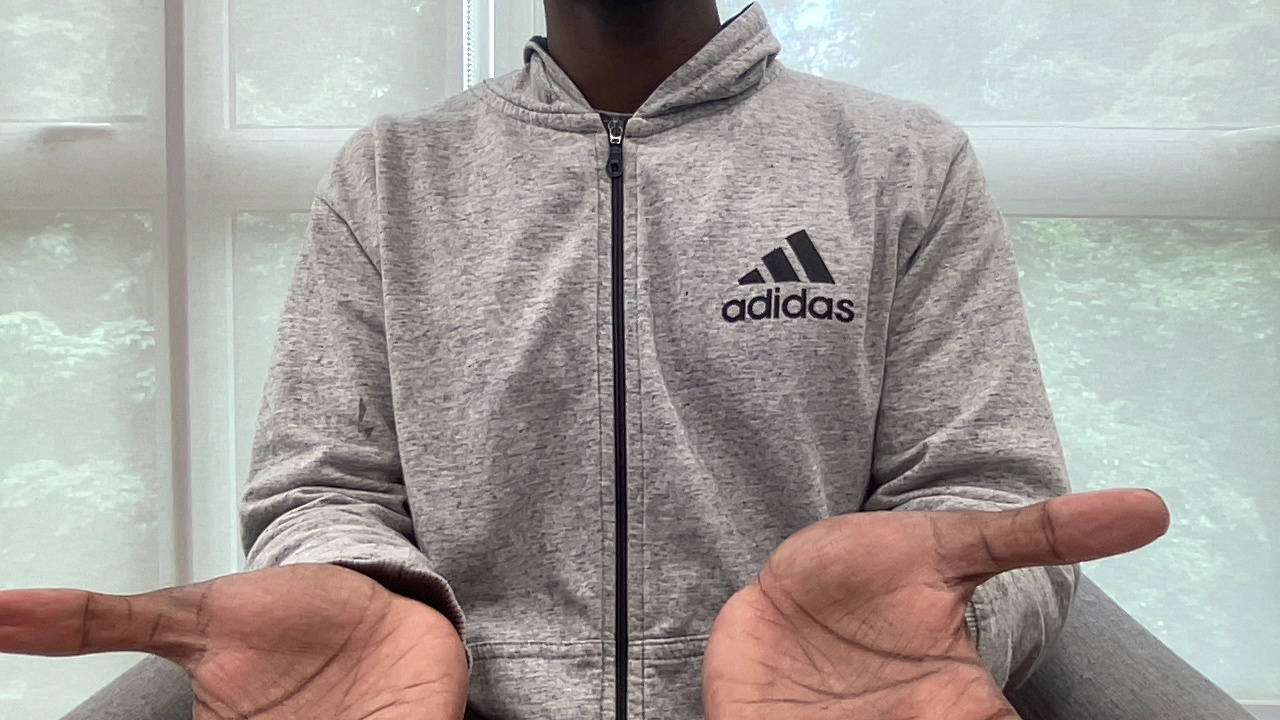give: (3, 480, 1176, 720)
